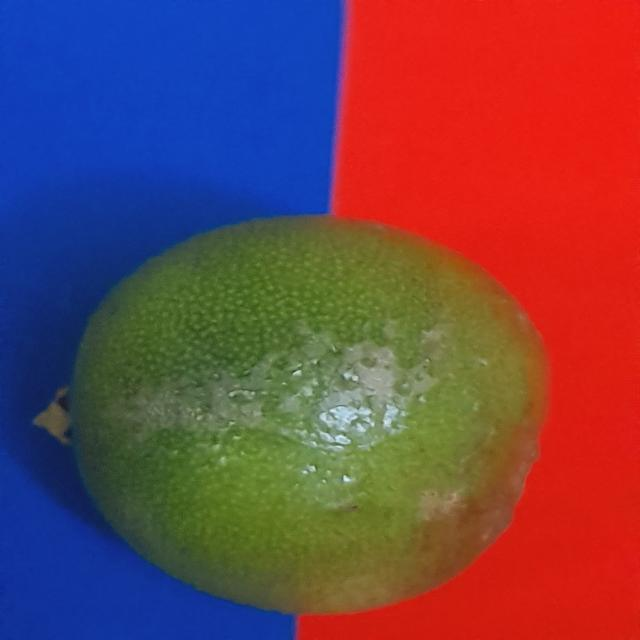thrips: (45, 216, 546, 614)
